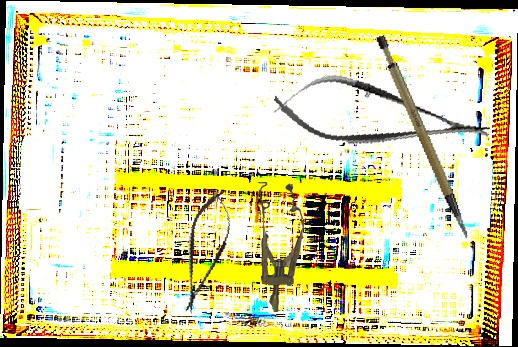Micro Scissor: (268, 64, 495, 169), (170, 186, 240, 318)
Scalpel Handle: (372, 27, 471, 250)
Speculum: (250, 181, 307, 314)
